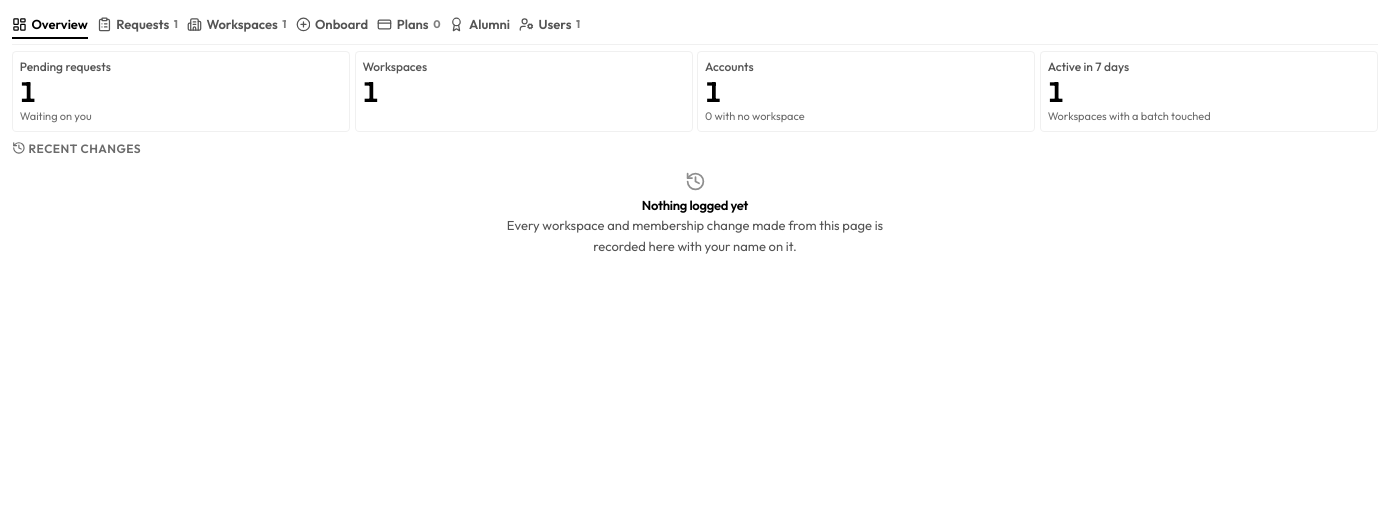
it: FounderConsole — Plans tab › names plan_management.sql when the catalog is missing, and nothing else breaks
The image size is (1378, 526).
Click the tab "Plans 0" at (409, 26), box 377,12 -> 440,39
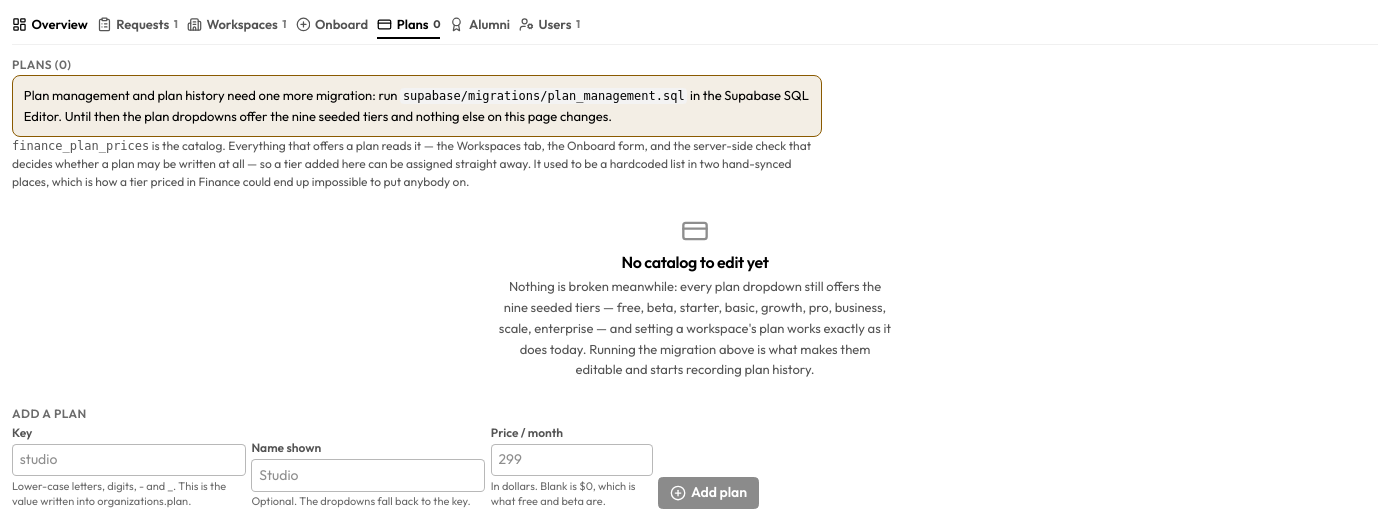
Expected: the tab "Requests 1" is shown, 97,12 -> 178,39
Result: the message with class "fc-setup" shows "plan_management.sql" at 403,89 -> 685,103
